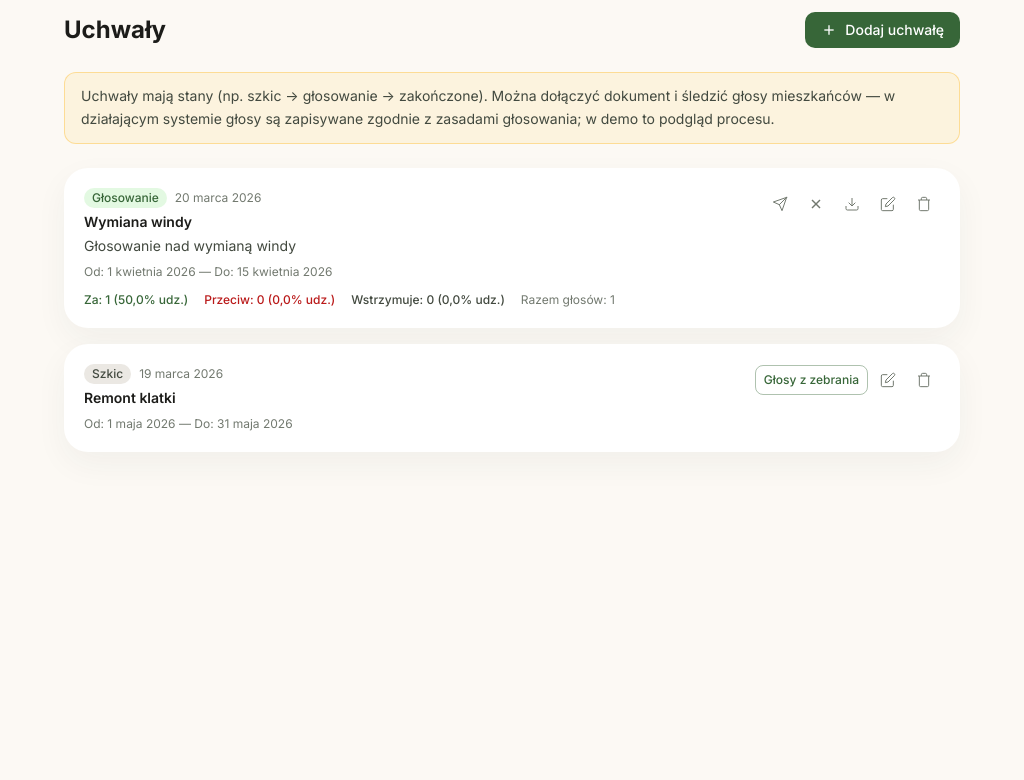
Test: AdminResolutionsPage › waliduje wymagane pole tytuł
Expected: the heading "Wymiana windy" is shown, [84,212,192,230]
Click the button "Dodaj uchwałę" at (883, 30), box [805,12,960,48]
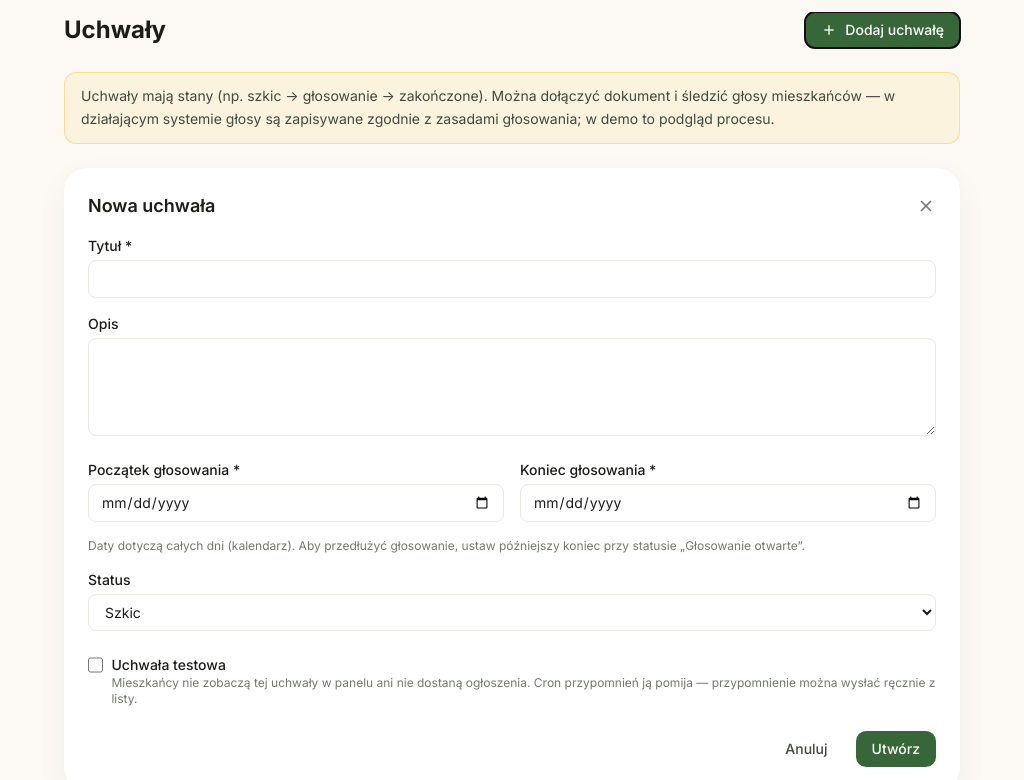
Click the button "Utwórz" at (896, 749), box [856,731,936,767]
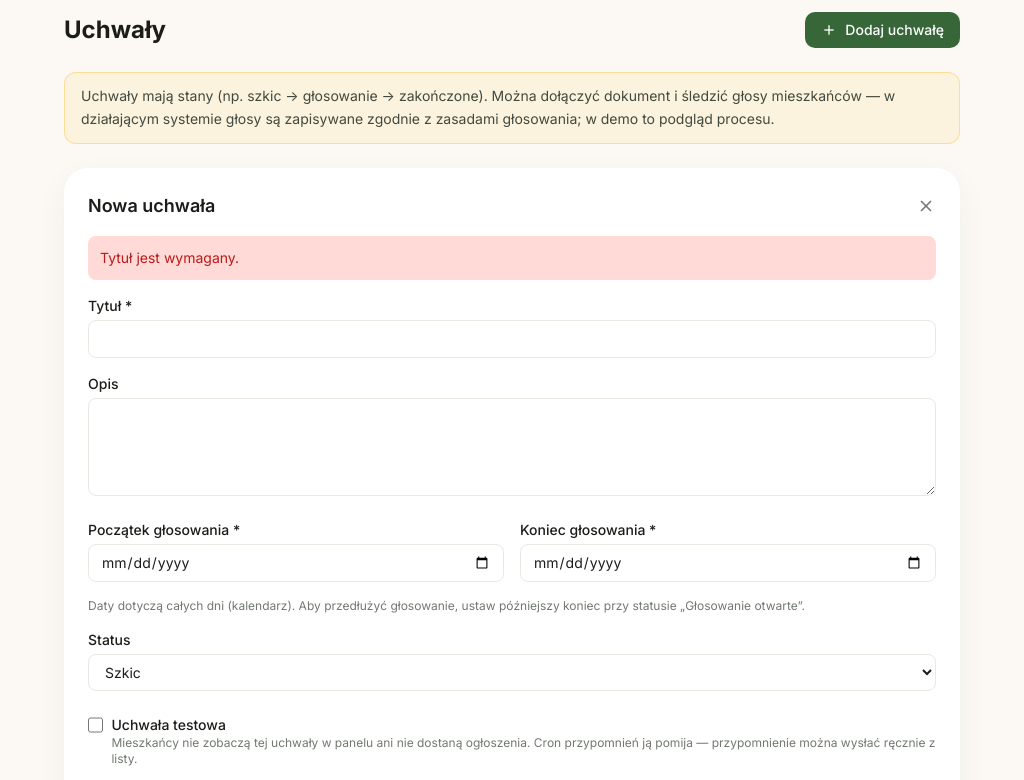
Result: the text "Tytuł jest wymagany." is shown at [88,236,936,280]
